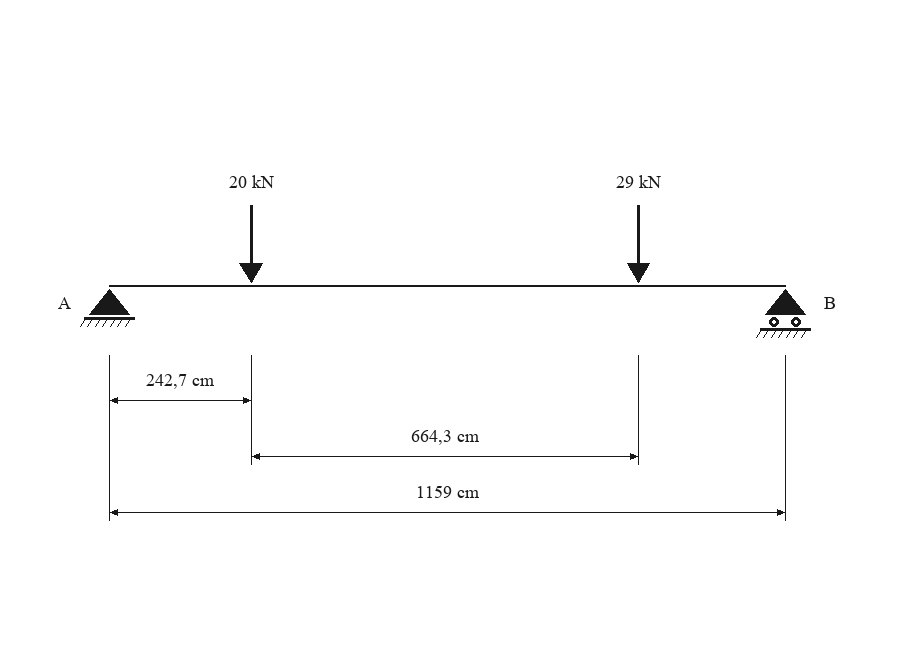pin_support: (80, 289, 135, 327)
point_load: (239, 205, 263, 283), (627, 205, 650, 283)
roller_support: (756, 289, 811, 338)
